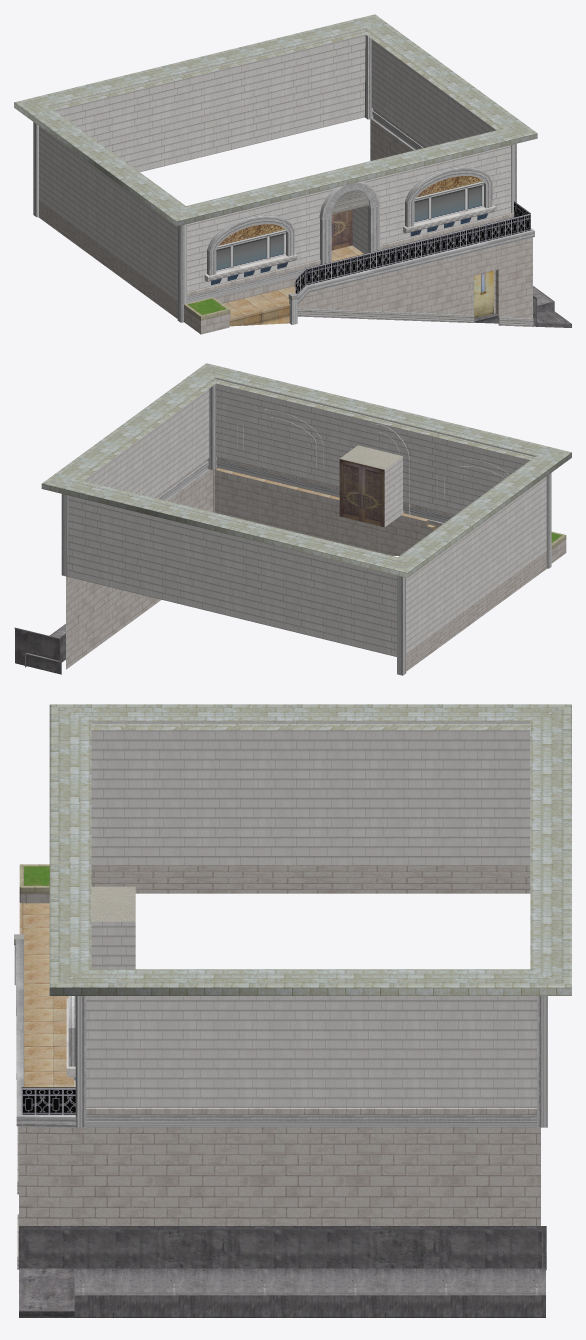
The model's file is BuilB_Base_15.fbx.
3 views of the same model, one above another, from view 1: azimuth 30°, elevation 25°; view 2: azimuth 150°, elevation 25°; view 3: azimuth 270°, elevation 25° (orthographic). The views are drawn at different scales.
Visible parts, largest first — view 1: ct2_03_n1_yc1_builbaseB15_000; view 2: ct2_03_n1_yc1_builbaseB15_000; view 3: ct2_03_n1_yc1_builbaseB15_000.
Part boxes in pixels (bbox=[...]): ct2_03_n1_yc1_builbaseB15_000: bbox=[14, 14, 571, 334]; ct2_03_n1_yc1_builbaseB15_000: bbox=[14, 363, 571, 675]; ct2_03_n1_yc1_builbaseB15_000: bbox=[14, 704, 571, 1317].
Size of the model in its own units: 2629 by 1231 by 1994.
